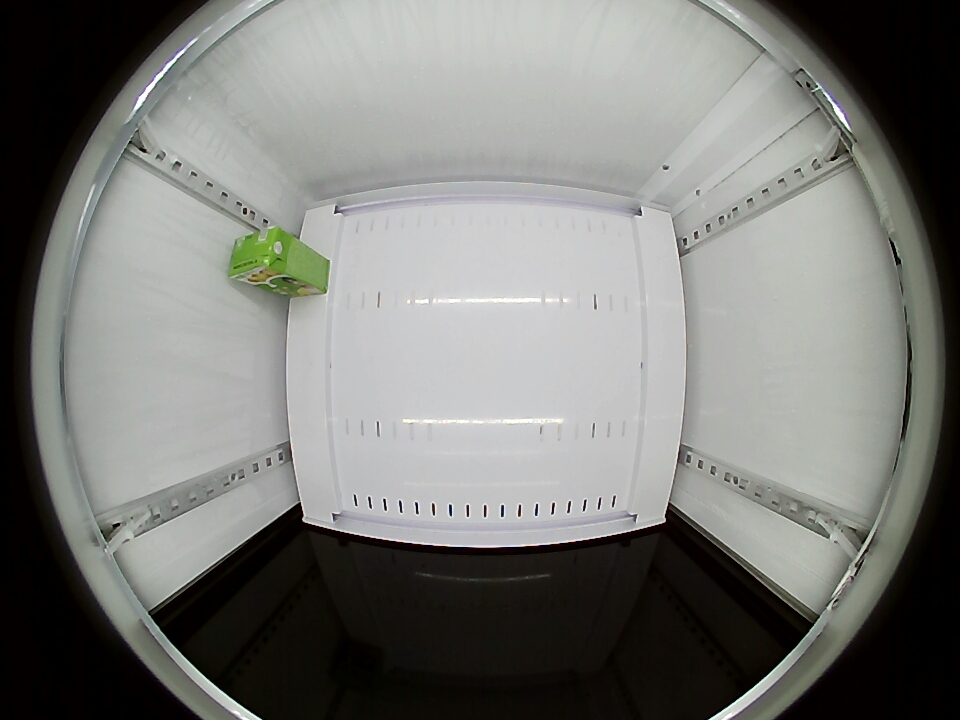mengniuzaocan: (229, 226, 292, 286)
